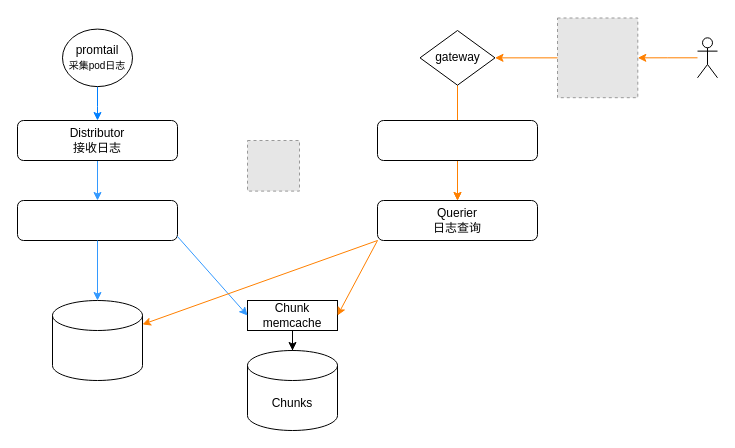
Some shapes in this 735 by 448 pixel diagram are drawn without their labels. Grey dashed boxes stand in for pictures. Here are the shapes that lost their labels. From the top down, the centre of each, then its label:
At point 457,140: "Query frontend".
At point 97,220: "Ingester 处理日志（压缩,临时存储）".
At point 97,340: "Index".
